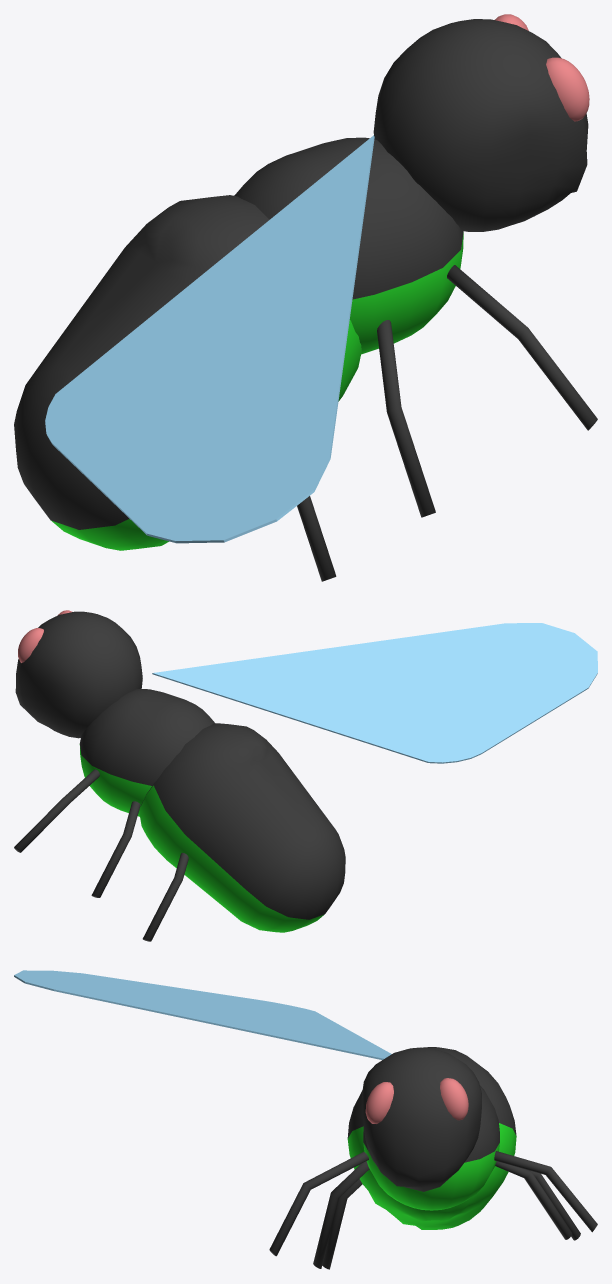
The model's file is fly.glb.
3 views of the same model, one above another, from view 1: azimuth 30°, elevation 25°; view 2: azimuth 150°, elevation 25°; view 3: azimuth 270°, elevation 25° (orthographic). The views are drawn at different scales.
Visible parts, largest first — view 1: Plane.001, Sphere.002, Sphere, Sphere.001, Cylinder, Cylinder.004, Sphere.003, Cylinder.002; view 2: Plane.001, Sphere, Sphere.002, Sphere.001, Cylinder.001, Cylinder.005, Cylinder.003, Sphere.004; view 3: Sphere.002, Plane.001, Sphere, Sphere.001, Cylinder, Cylinder.001, Cylinder.004, Cylinder.005, Sphere.004, Sphere.003, Cylinder.002, Cylinder.003.
Part boxes in pixels (x1,y1,x2,y2): Plane.001: [45, 135, 374, 543]; Sphere.002: [373, 19, 588, 231]; Sphere: [14, 195, 361, 550]; Sphere.001: [234, 137, 463, 354]; Cylinder: [447, 265, 597, 430]; Cylinder.004: [377, 320, 435, 517]; Sphere.003: [546, 57, 589, 121]; Cylinder.002: [297, 496, 336, 581]; Plane.001: [152, 623, 597, 763]; Sphere: [140, 723, 345, 932]; Sphere.002: [15, 611, 142, 738]; Sphere.001: [79, 689, 214, 816]; Cylinder.001: [14, 769, 99, 852]; Cylinder.005: [91, 801, 140, 897]; Cylinder.003: [142, 852, 188, 941]; Sphere.004: [18, 628, 43, 662]; Sphere.002: [362, 1047, 481, 1191]; Plane.001: [14, 970, 391, 1059]; Sphere: [347, 1047, 516, 1229]; Sphere.001: [363, 1085, 499, 1210]; Cylinder: [269, 1151, 368, 1256]; Cylinder.001: [494, 1151, 597, 1232]; Cylinder.004: [313, 1161, 369, 1268]; Cylinder.005: [495, 1161, 572, 1239]; Sphere.004: [440, 1078, 468, 1120]; Sphere.003: [365, 1082, 393, 1123]; Cylinder.002: [322, 1179, 362, 1269]; Cylinder.003: [531, 1171, 580, 1240].
Bounding box in the file's own units: 0.0299 × 0.0184 × 0.034.
